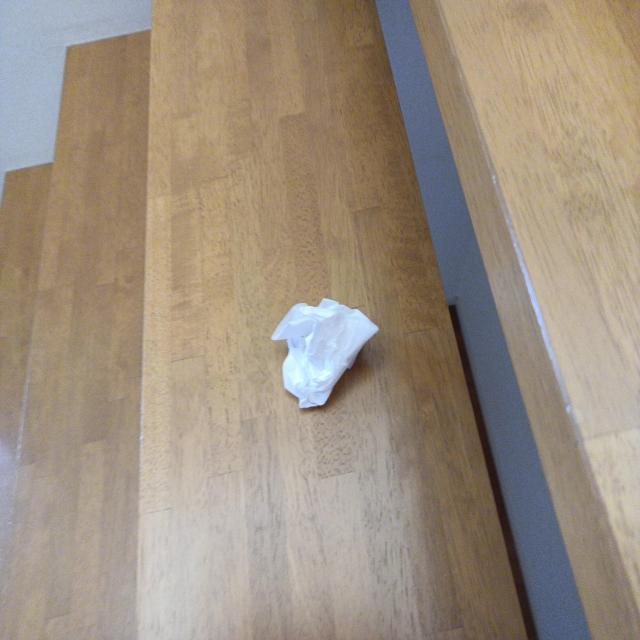Paper: (259, 280, 384, 404)
